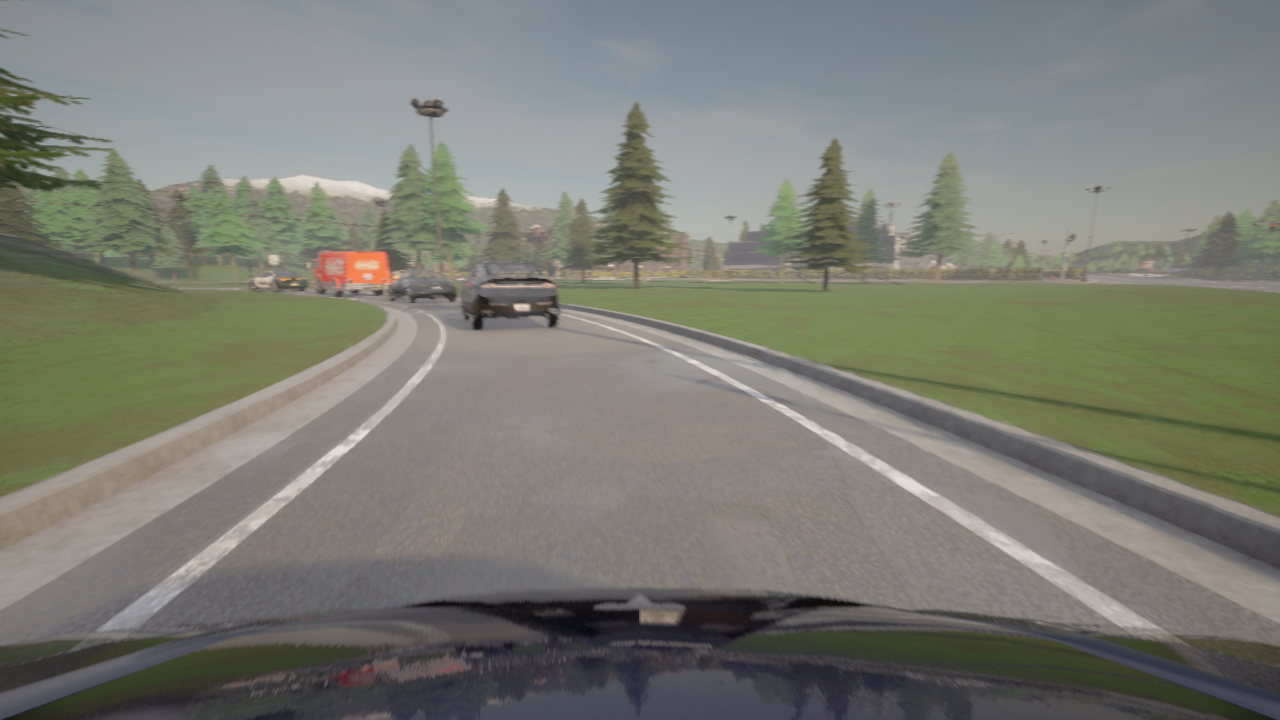cyclist: (0, 588, 1279, 719), (456, 261, 559, 330), (306, 251, 389, 296), (387, 270, 457, 303), (248, 269, 309, 292), (1080, 273, 1082, 274)
